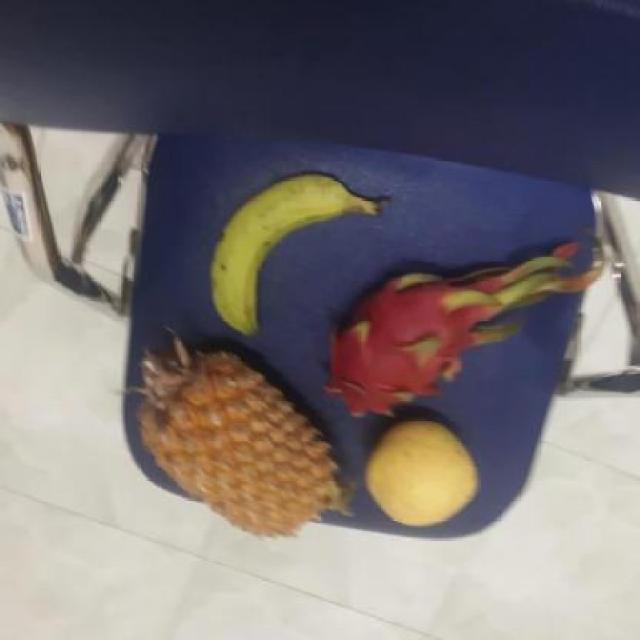banana: (211, 170, 394, 333)
dragon fruit: (330, 269, 487, 416)
pear: (360, 416, 482, 530)
pineapple: (139, 338, 358, 542)
